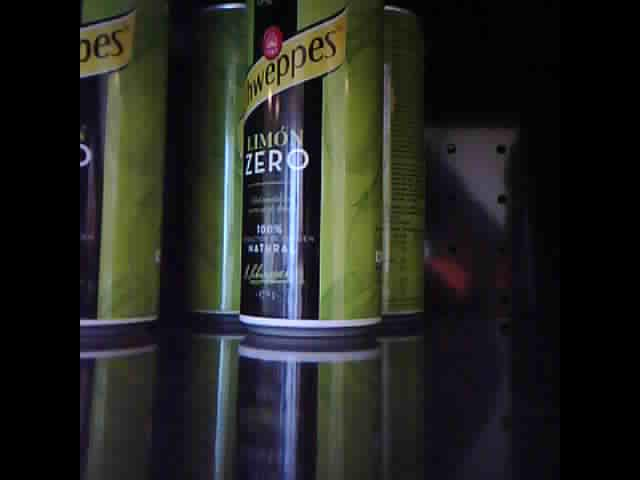schweppes: (236, 1, 384, 338), (78, 1, 171, 336), (181, 2, 246, 322), (379, 3, 422, 325)
